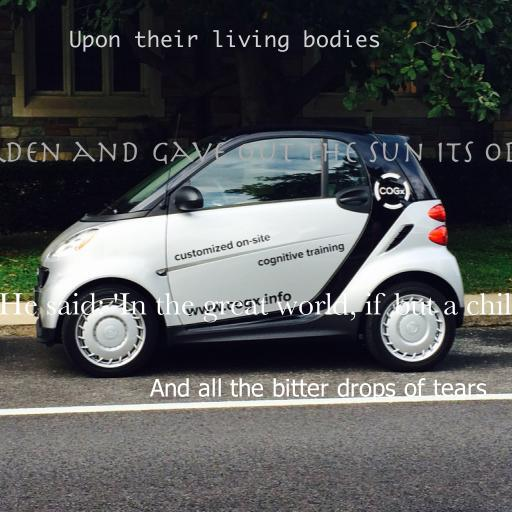Baskerville: (0, 292, 512, 323)
Herculanum: (0, 141, 512, 165)
Monaco: (69, 29, 381, 52)
Tahoma: (149, 378, 487, 402)
